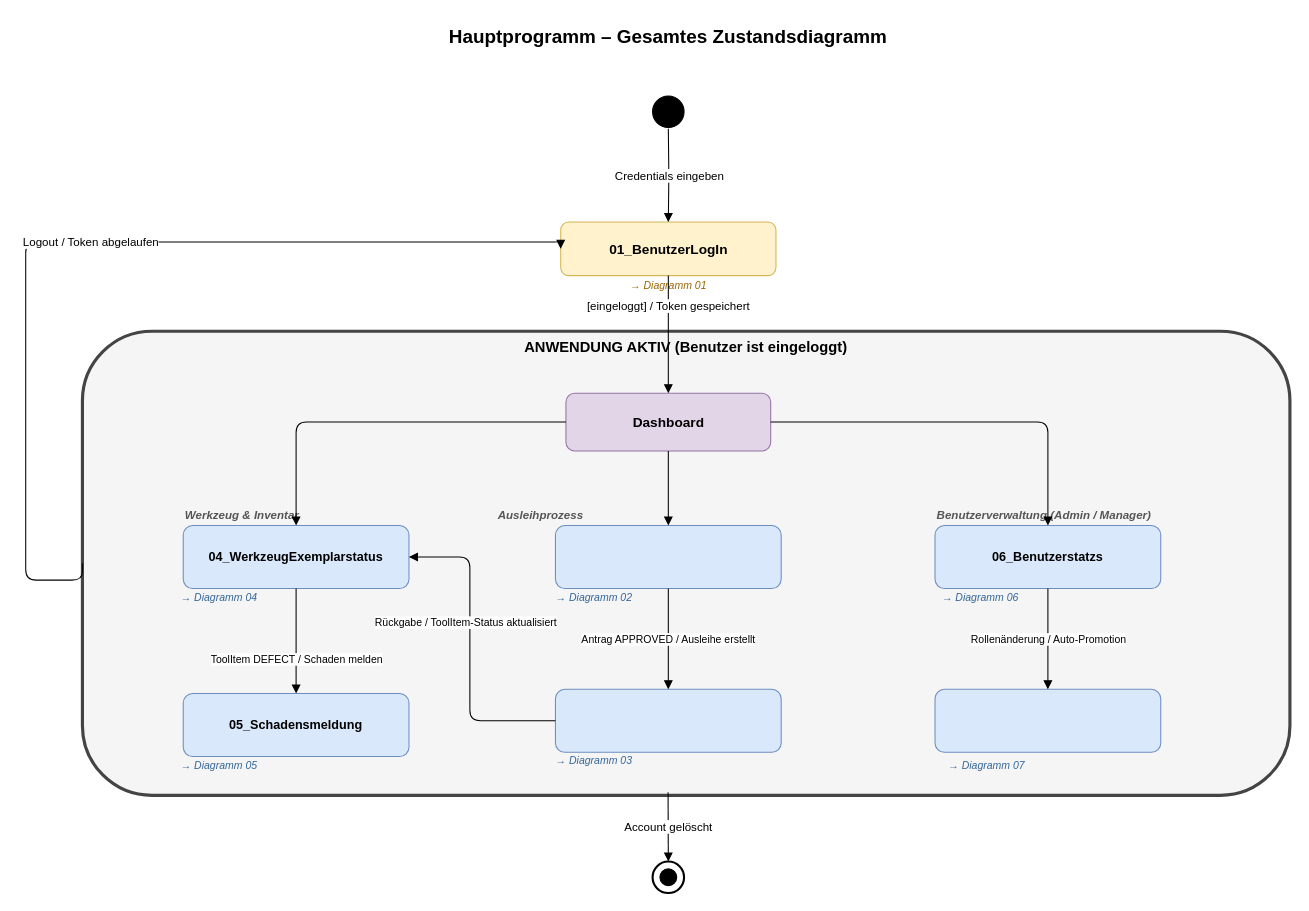
Some shapes in this 1309 by 911 pixel diagram are drawn without their labels. The shapes that lost their labels are listed below. From the top down, each one's centre as x and y in pixels, then its label:
(x=667, y=556): 02_Ausleihanfrage
(x=667, y=720): 03_Ausleihe
(x=1047, y=720): 07_Abteilungsleiter
